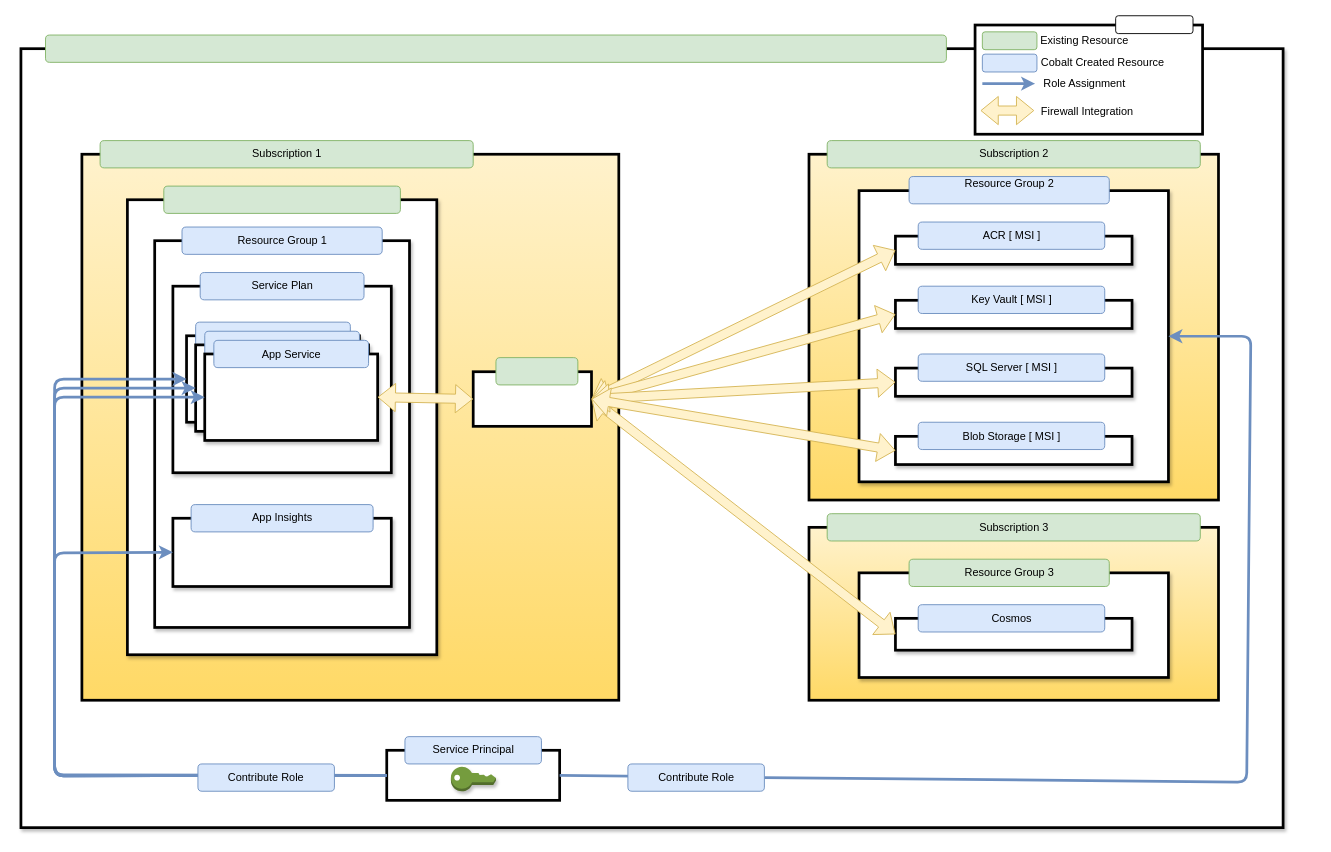
Image size: 1331x852. Some labels were removed from this diagram. The shapes that lost their labels are listed below. From the top down, each one's centre as x and y in pixels, then its label:
the point at 1154,24: Legend
the point at 495,48: Azure Tenant
the point at 281,199: App Service Environment
the point at 536,371: VNET
